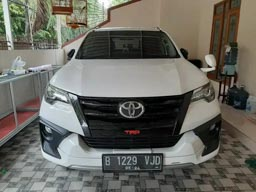plat: (102, 154, 162, 165)
